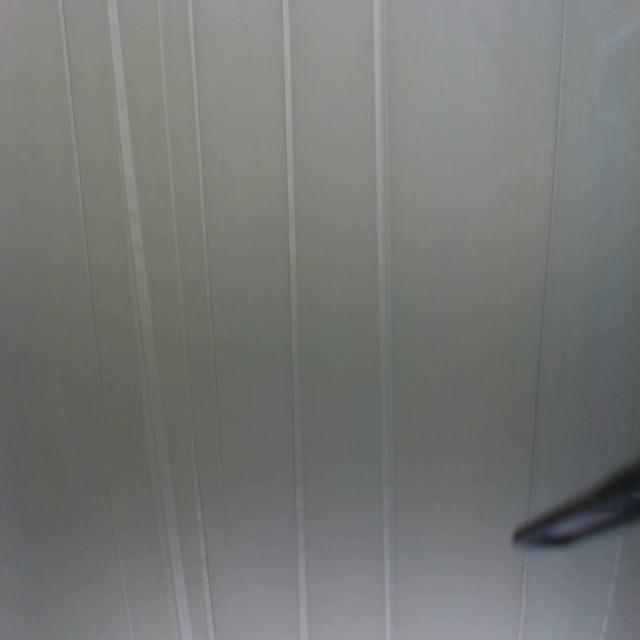crease: (106, 0, 188, 640), (61, 0, 135, 640), (156, 0, 218, 640), (187, 0, 226, 508), (280, 0, 310, 640), (529, 0, 568, 476), (372, 0, 393, 640), (596, 537, 625, 640), (516, 556, 529, 640)
